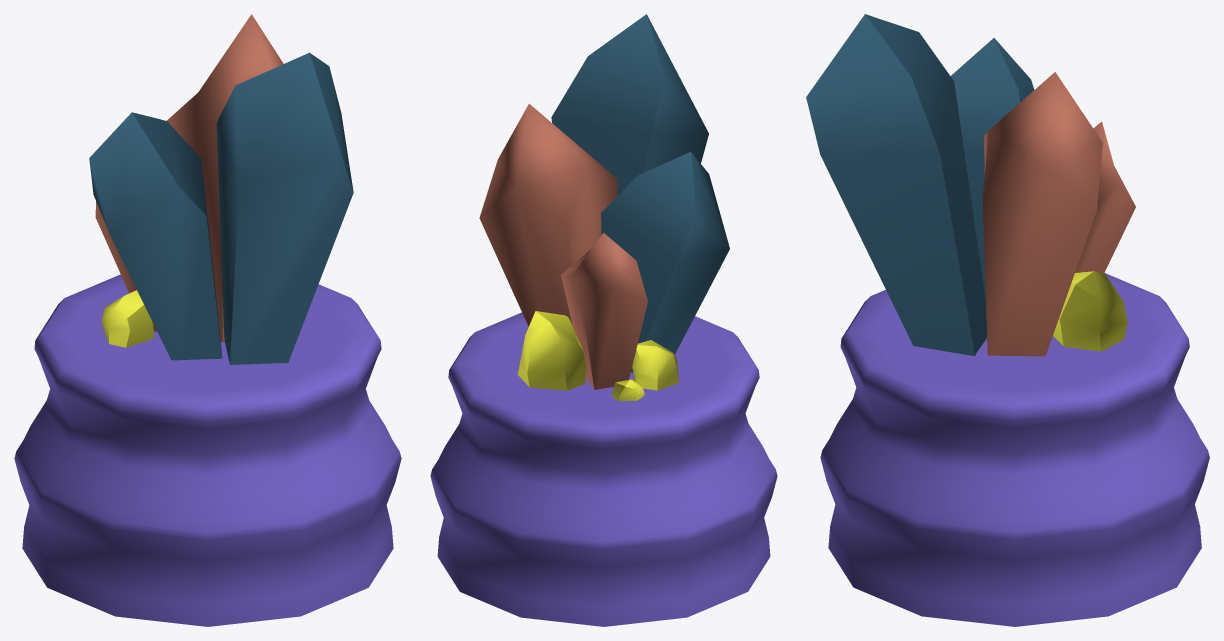
File: SM_Crystals.fbx
3 renders of one model, left to right at view 1: azimuth 30°, elevation 25°; view 2: azimuth 150°, elevation 25°; view 3: azimuth 270°, elevation 25°, orthographic. The views are drawn at different scales.
Parts seen in each view (by area): view 1: Crystal_01; view 2: Crystal_01; view 3: Crystal_01.
Boxes of the visible parts, x1,y1,x2,y2 form: Crystal_01: (14,14,401,626); Crystal_01: (430,14,777,626); Crystal_01: (806,14,1209,626).
Bounding box in the file's own units: 0.422 × 0.6542 × 0.4375.
